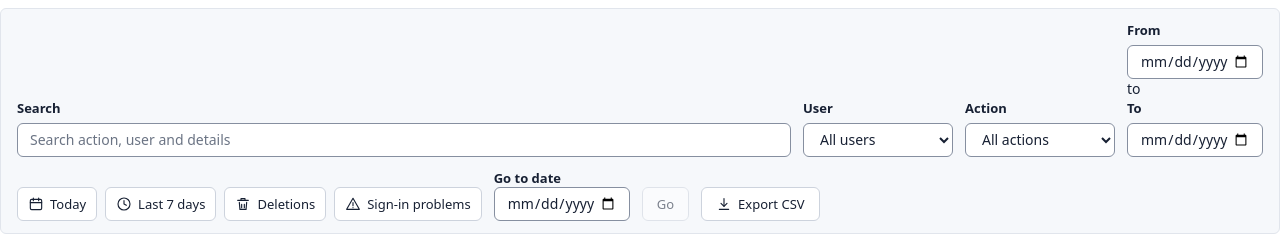
Test: AuditFilterBar quick filters › toggles Deletions on and off, and the Action select names the quick filter while it holds
What coordinates should you click on to do the following:
click the button "Deletions"
I would click on:
 (275, 204)
Its box is [224, 187, 326, 221].
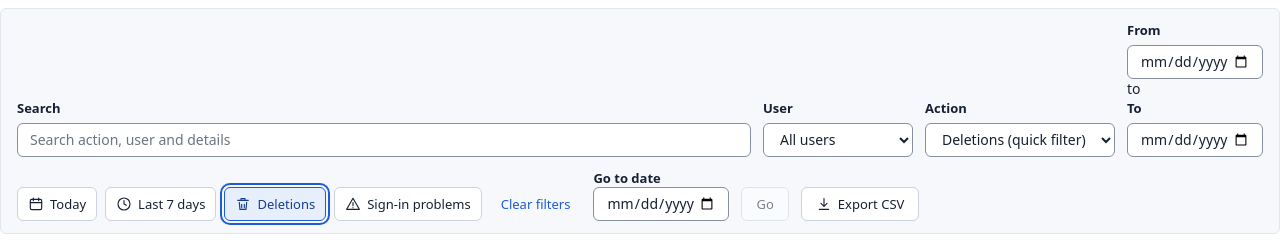
Expected: the dropdown labelled "Action" shows "Deletions (quick filter)", [925, 123, 1115, 157]
What coordinates should you click on to do the following:
click the button "Deletions"
I would click on:
 (275, 204)
Its box is [224, 187, 326, 221].
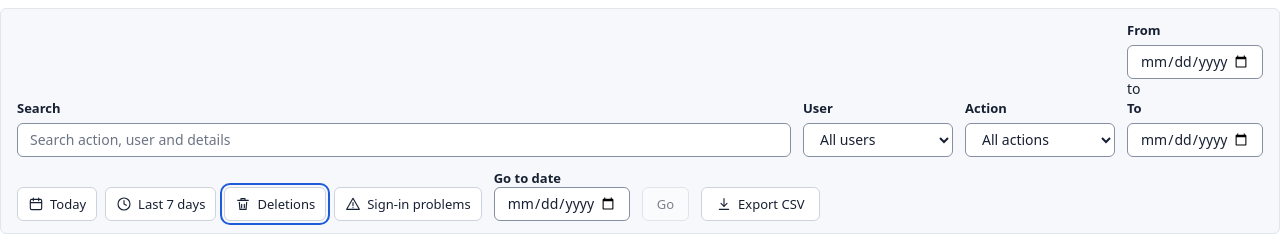
Expected: the option "quick filter" is not shown
Expected: the dropdown labelled "Action" shows "All actions", [965, 123, 1115, 157]
